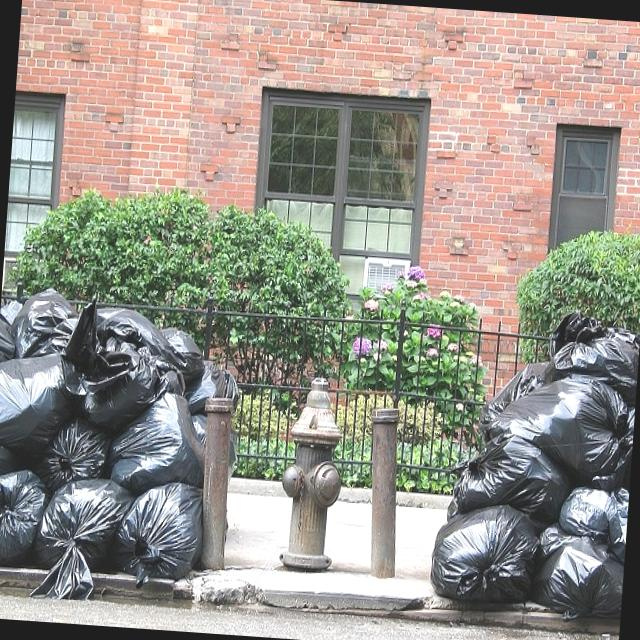garbage: (0, 289, 238, 597), (431, 311, 640, 615)
